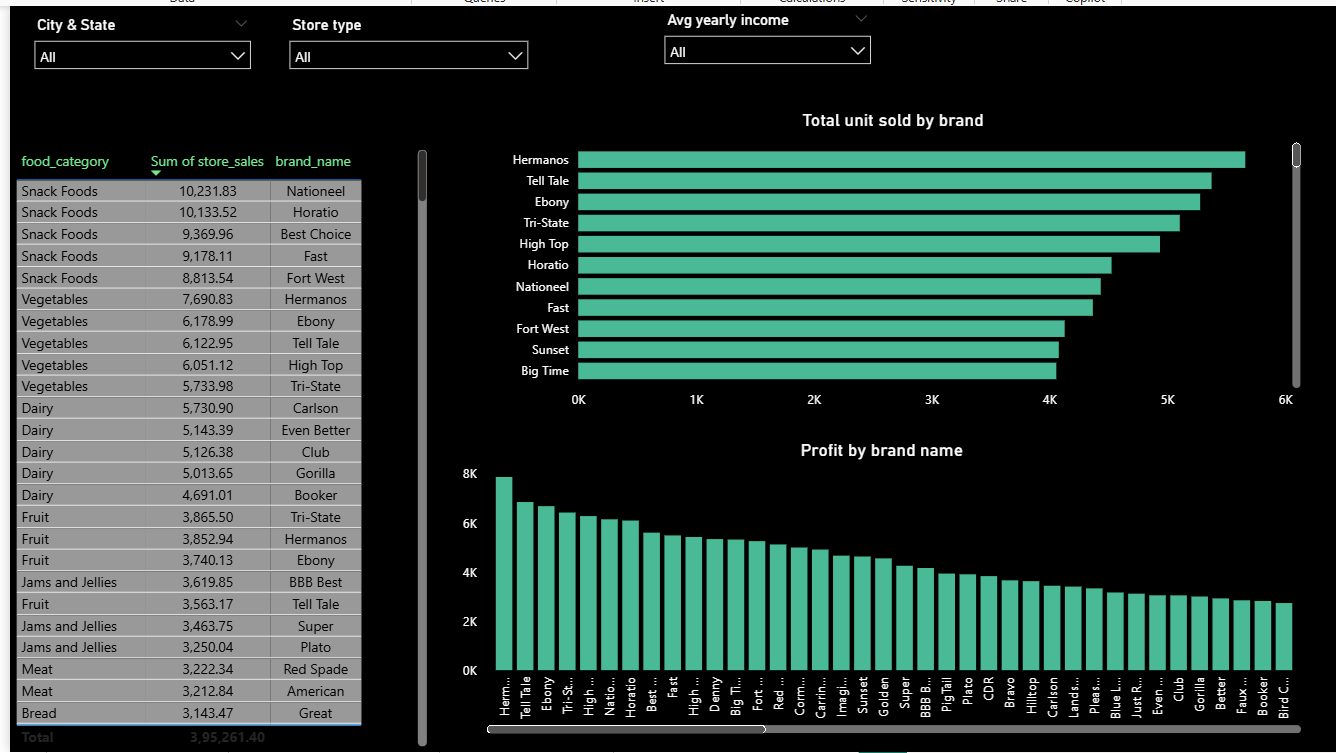

The page's visual inventory and layout, read from the dashboard file:
{"tool":"powerbi","page":{"name":"Brand Performance","canvas":[1280,720],"ordinal":1},"visuals":[{"type":"clusteredBarChart","title":"Total unit sold by brand","fields":{"Category":["media prediction and its cost.brand_name"],"Y":["media prediction and its cost.Total_unit_sold"]},"box":[454.2,100.2,797.3,297.8],"z":0},{"type":"columnChart","title":"Profit by brand name","fields":{"Category":["media prediction and its cost.brand_name"],"Y":["media prediction and its cost.Profit"]},"box":[431.7,418.2,819.3,288.6],"z":1000},{"type":"slicer","fields":{"Values":["media prediction and its cost.store_type"]},"box":[259.4,4.8,250.9,85.7],"z":2000},{"type":"slicer","fields":{"Values":["media prediction and its cost.store_city","media prediction and its cost.store_state"]},"box":[13.3,4.8,229.2,85.7],"z":3000},{"type":"slicer","fields":{"Values":["media prediction and its cost.avg. yearly_income (groups)"]},"box":[621.3,0,219.6,90.5],"z":4000},{"type":"tableEx","fields":{"Values":["media prediction and its cost.food_category","Sum(media prediction and its cost.store_sales)","media prediction and its cost.brand_name"]},"box":[0,134.5,407.2,585.7],"z":5000}]}

Visuals, with their boxes on the page's 1280x720 design canvas (x1, y1, x2, y2). These are canvas units, not pixel positions in the 1336x753 screenshot, which may show the page scaled, cropped or inside an application window:
"Total unit sold by brand" clusteredBarChart: [454, 100, 1252, 398]
"Profit by brand name" columnChart: [432, 418, 1251, 707]
slicer - media prediction and its cost.store_type: [259, 5, 510, 90]
slicer - media prediction and its cost.store_city x media prediction and its cost.store_state: [13, 5, 242, 90]
slicer - media prediction and its cost.avg. yearly_income (groups): [621, 0, 841, 90]
tableEx - media prediction and its cost.food_category x Sum(media prediction and its cost.store_sales): [0, 134, 407, 720]
